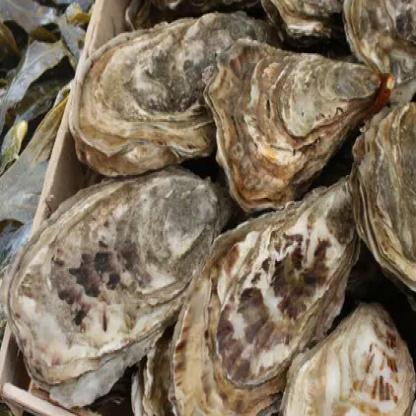Oyster- Indeterminate: (5, 164, 238, 405), (353, 101, 416, 301), (261, 0, 346, 44)
Oyster-Closed: (169, 174, 359, 416), (70, 12, 281, 174), (206, 40, 391, 214), (278, 301, 416, 416), (344, 0, 416, 84)
Oyster-Open: (130, 324, 174, 416)
